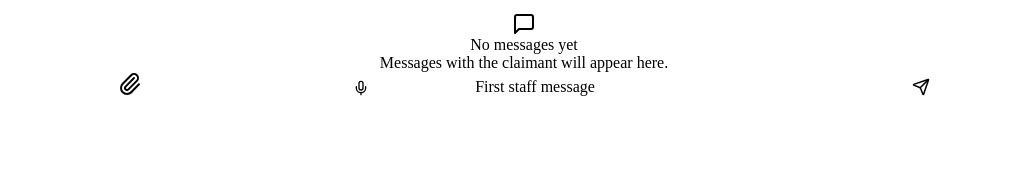
Test case: Conversation › adds final voice transcripts to the editable draft and stops without sending
Click the button named "Use voice input".
click(361, 88)  # box [248,80,475,96]
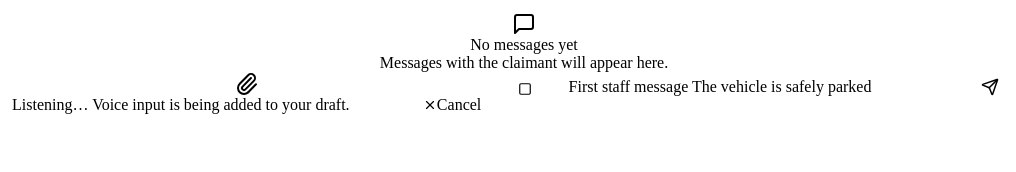
Now the text "Listening… Speak naturally" is shown, box [12,96,350,114]
Now the text box named "Message to claimant" holds "First staff message The vehicle is safely parked", box [569,78,945,96]
Click the button named "Stop voice input".
click(525, 89)  # box [481,82,569,96]
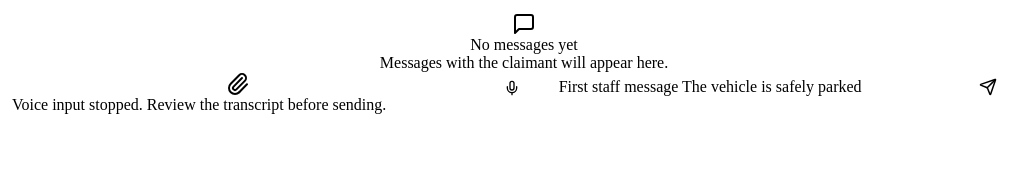
Expected: the button named "Use voice input" is enabled, [464,80,559,96]
Now the text "Voice input stopped. Review the transcript before sending." is shown, box [12,96,386,114]
